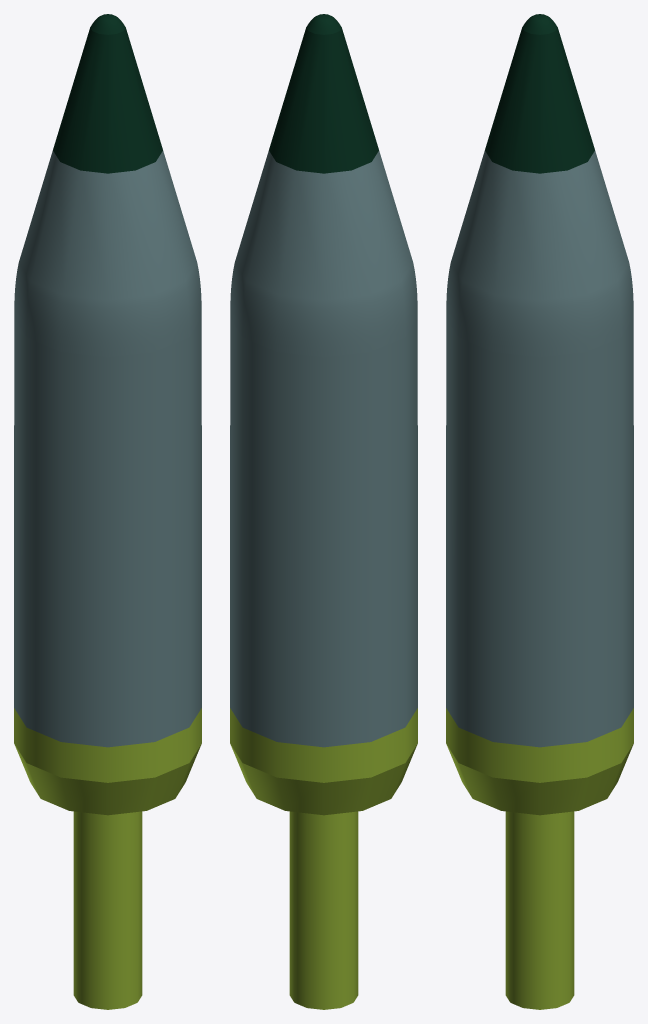
The model's file is снаряд.FBX.
3 views of the same model, side by side, from view 1: azimuth 30°, elevation 25°; view 2: azimuth 150°, elevation 25°; view 3: azimuth 270°, elevation 25° (orthographic).
Visible parts, largest first — view 1: Line005; view 2: Line005; view 3: Line005.
Part boxes in pixels (x1=…): Line005: x1=14, y1=14, x2=201, y2=1009; Line005: x1=230, y1=14, x2=417, y2=1009; Line005: x1=446, y1=14, x2=633, y2=1009.
Size of the model in its own units: 4.84 by 27.82 by 4.84.
